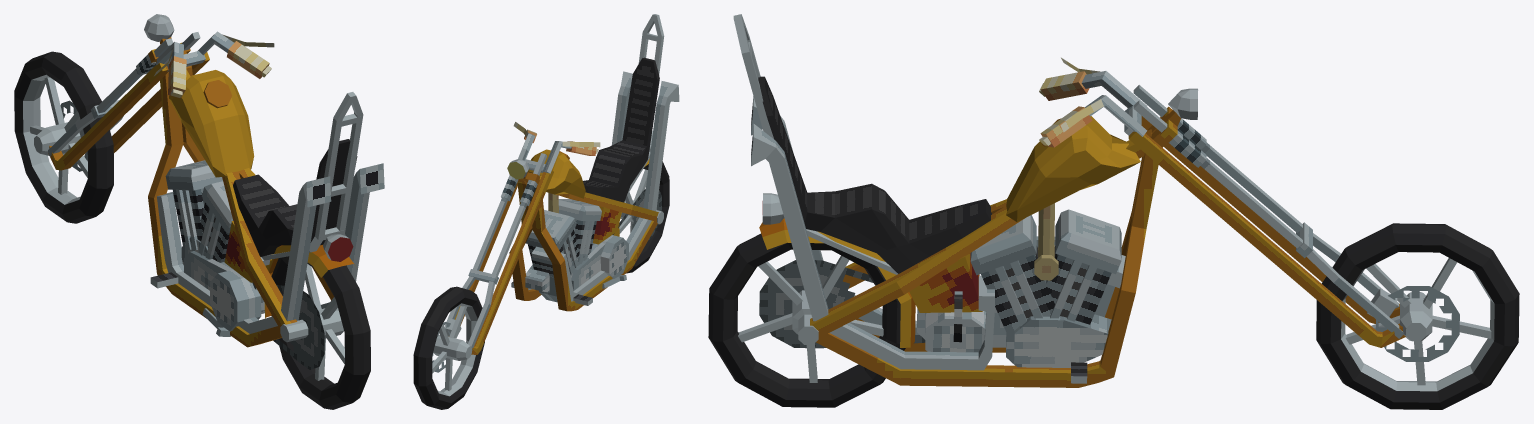
The model's file is chopper_motorbike.glb.
3 renders of one model, left to right at view 1: azimuth 30°, elevation 25°; view 2: azimuth 150°, elevation 25°; view 3: azimuth 270°, elevation 25°, orthographic. The views are drawn at different scales.
Visible parts, largest first — view 1: torus_57, torus_67, plane_80, seat_87, under_left_36, cuboid_29, cuboid_75, top_left_38, cylinder_17, front_arm_left_48, cuboid_32, cuboid_30 (+24 smaller); view 2: seat_87, torus_57, cuboid_29, under_left_36, front_arm_left_48, plane_80, front_arm_left_39, cylinder_17, torus_67, cuboid_0, under_right_35, top_left_38 (+18 smaller); view 3: torus_57, seat_87, torus_67, under_right_35, cuboid_32, plane_80, front_arm_right_47, top_right_37, cylinder_15, cuboid_0, chain_91, front_arm_right_40 (+19 smaller).
Boxes of the visible parts, <box> form: torus_57: <box>14,51,113,223</box>; torus_67: <box>271,256,370,409</box>; plane_80: <box>169,70,254,177</box>; seat_87: <box>233,139,357,256</box>; under_left_36: <box>148,61,281,347</box>; cuboid_29: <box>239,176,331,333</box>; cuboid_75: <box>260,92,363,265</box>; top_left_38: <box>222,171,297,327</box>; cylinder_17: <box>210,269,261,331</box>; front_arm_left_48: <box>48,63,168,170</box>; cuboid_32: <box>321,163,384,308</box>; cuboid_30: <box>157,192,211,306</box>; seat_87: <box>583,57,659,202</box>; torus_57: <box>413,286,484,409</box>; cuboid_29: <box>626,81,679,260</box>; under_left_36: <box>526,180,657,311</box>; front_arm_left_48: <box>471,170,553,354</box>; plane_80: <box>528,149,585,198</box>; front_arm_left_39: <box>468,153,546,350</box>; cylinder_17: <box>600,235,628,278</box>; torus_67: <box>626,161,669,273</box>; cuboid_0: <box>526,210,576,249</box>; under_right_35: <box>509,179,541,300</box>; top_left_38: <box>566,192,658,220</box>; torus_57: <box>1316,223,1519,409</box>; seat_87: <box>758,76,991,273</box>; torus_67: <box>708,233,905,407</box>; under_right_35: <box>816,129,1167,387</box>; cuboid_32: <box>751,124,994,370</box>; plane_80: <box>1006,116,1140,221</box>; front_arm_right_47: <box>1128,131,1405,347</box>; top_right_37: <box>810,129,1152,337</box>; cylinder_15: <box>1014,314,1111,367</box>; cuboid_0: <box>1055,209,1121,274</box>; chain_91: <box>759,260,925,348</box>; front_arm_right_40: <box>1133,100,1403,338</box>.
Bounding box in the file's own units: 1.27 × 3.35 × 6.26.
Materials: 1 (1 with a texture image).
